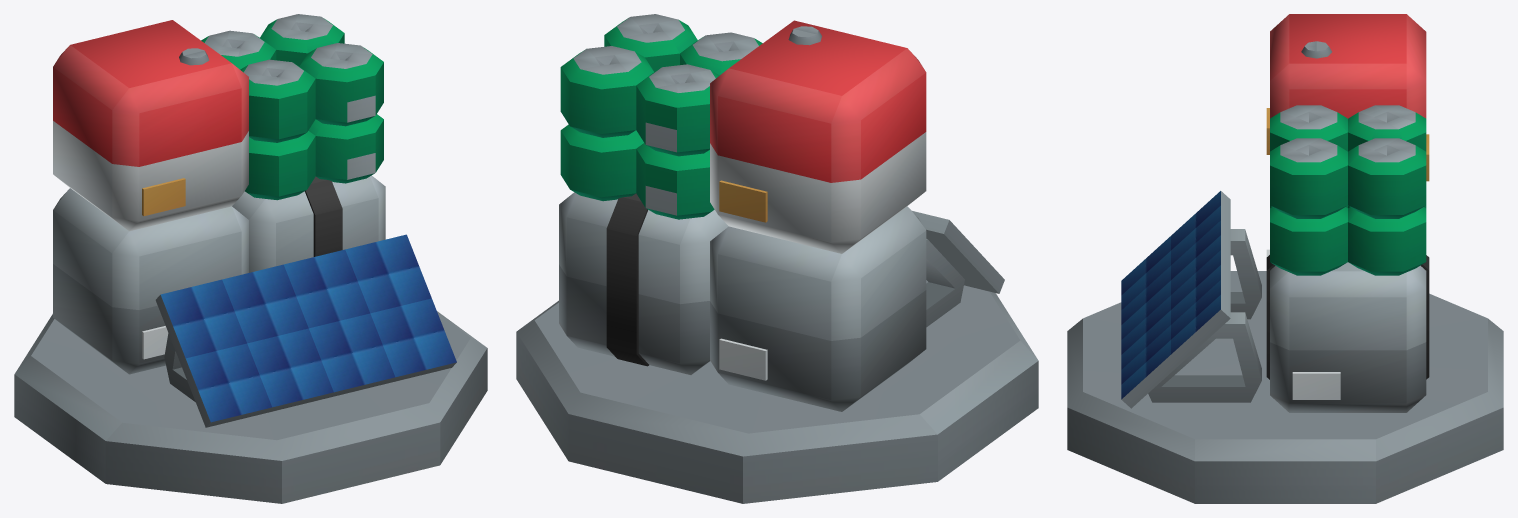
Rendered from kaykit-space-base-bits-roofmodule-cargo-c.glb.
3 renders of one model, left to right at view 1: azimuth 30°, elevation 25°; view 2: azimuth 150°, elevation 25°; view 3: azimuth 270°, elevation 25°, orthographic. The views are drawn at different scales.
Visible parts, largest first — view 1: roofmodule_cargo_C; view 2: roofmodule_cargo_C; view 3: roofmodule_cargo_C.
Boxes of the visible parts, x1=… form: roofmodule_cargo_C: x1=14, y1=14, x2=487, y2=503; roofmodule_cargo_C: x1=516, y1=14, x2=1038, y2=503; roofmodule_cargo_C: x1=1067, y1=14, x2=1503, y2=503.
Bounding box in the file's own units: 1.4 × 1.22 × 1.4.
Materials: 1 (1 with a texture image).
